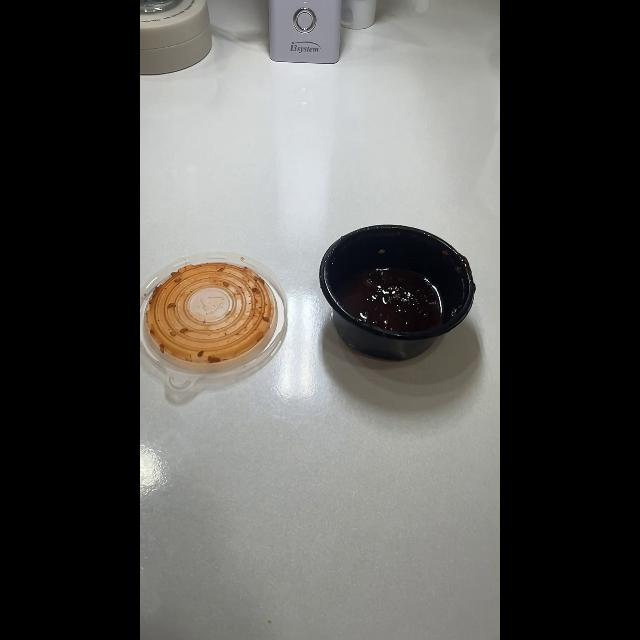dirty: (324, 223, 476, 357), (142, 256, 280, 372)
